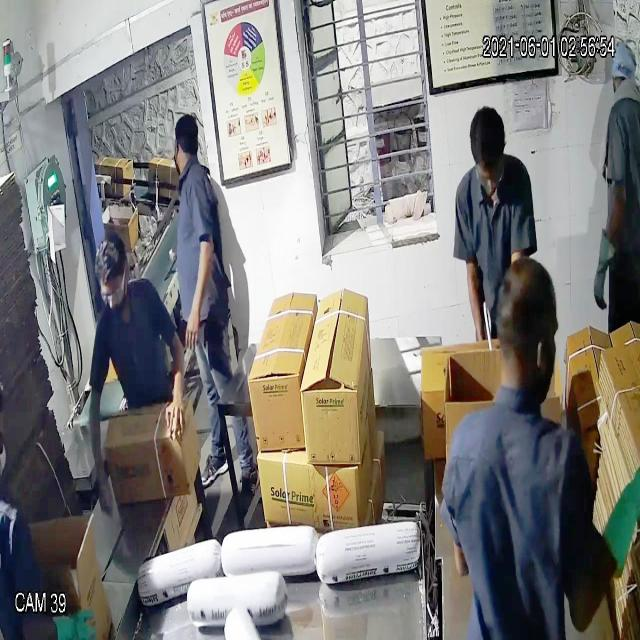glasses: (95, 270, 133, 312)
